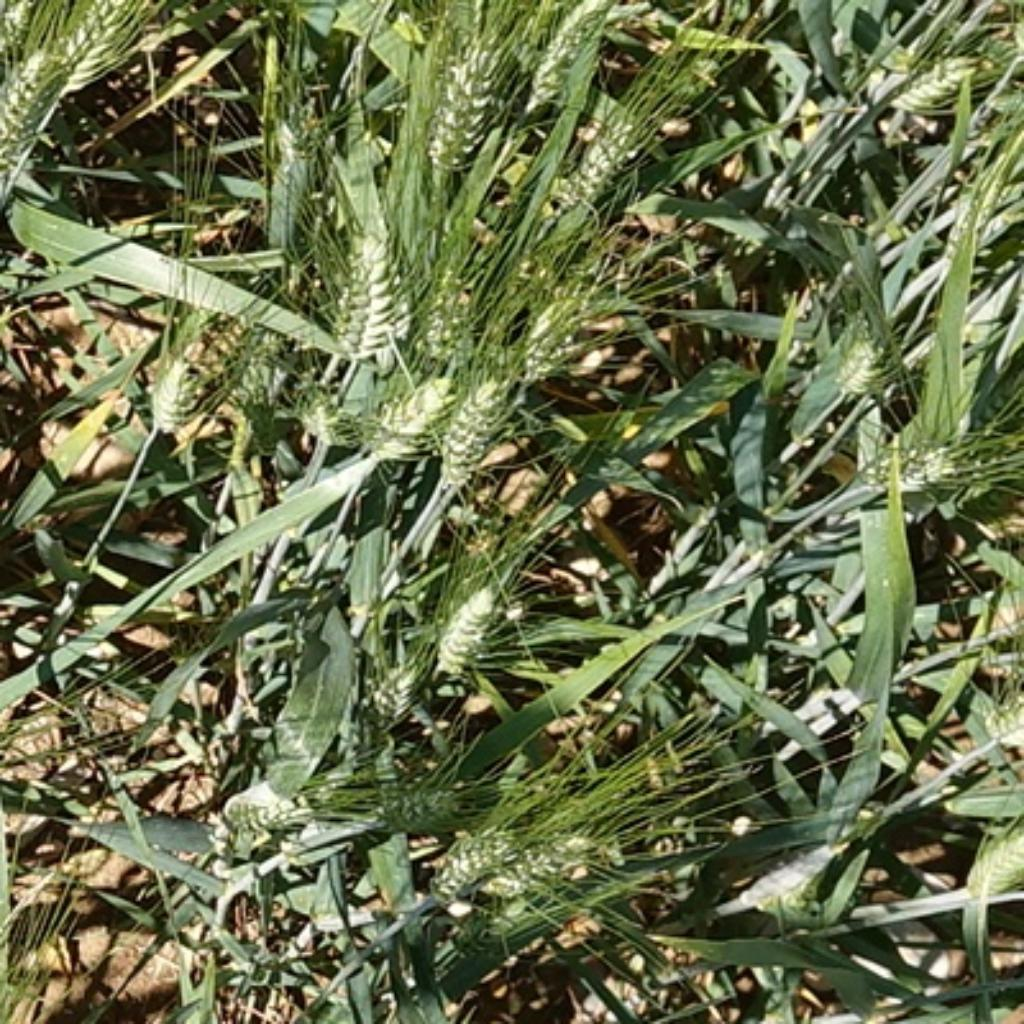0-0: (496, 225, 632, 378), (404, 10, 522, 174), (145, 302, 255, 440), (478, 819, 637, 913), (876, 412, 1008, 522), (322, 212, 419, 358), (552, 104, 660, 225), (0, 35, 76, 199), (427, 363, 514, 481), (355, 366, 460, 460), (424, 579, 513, 688), (60, 0, 153, 102), (808, 320, 906, 412), (524, 2, 614, 102), (424, 824, 529, 903), (340, 640, 420, 736), (959, 816, 1024, 927), (885, 52, 988, 122), (373, 773, 476, 842), (409, 263, 478, 353), (220, 778, 312, 844), (273, 93, 346, 173), (302, 371, 355, 440), (986, 683, 1024, 762)
